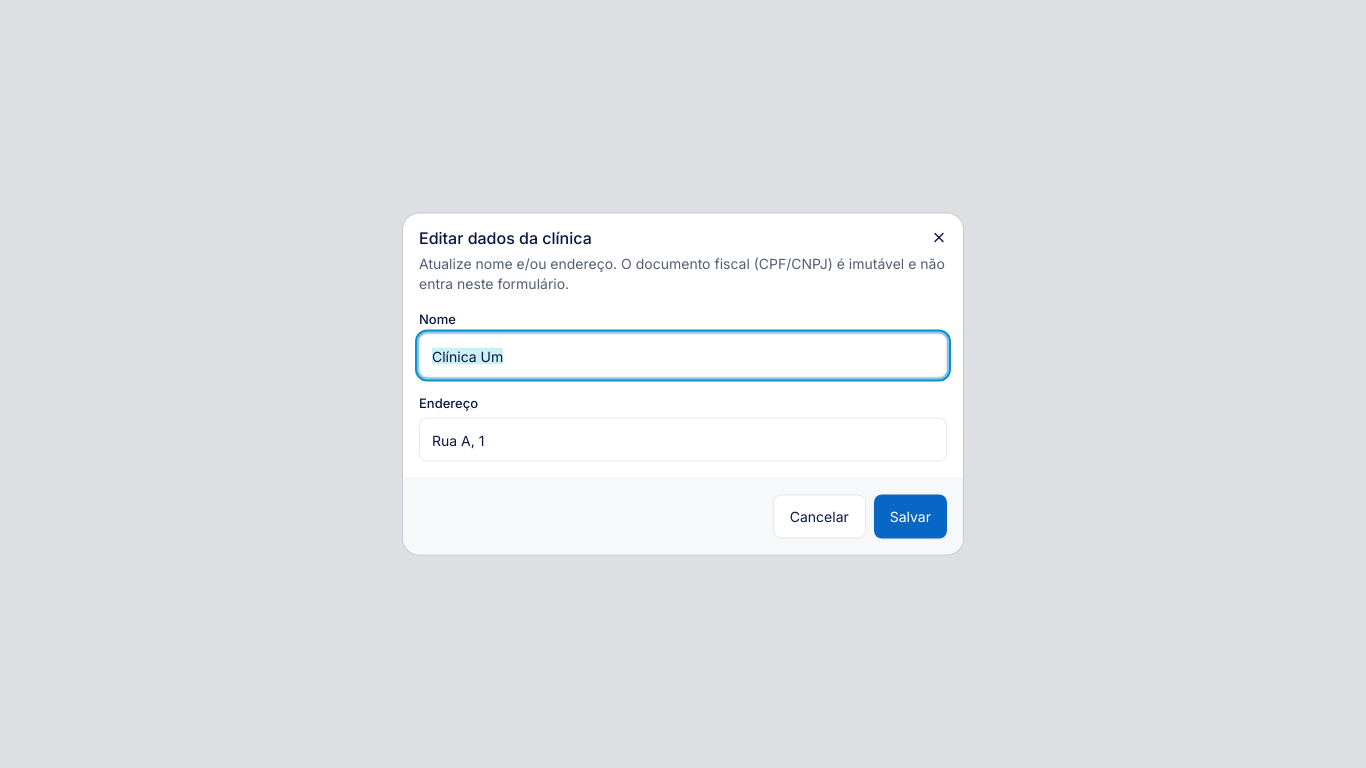
Scenario: EditarDadosClinicaModal › não envia quando os valores não mudaram
Click the button "Salvar" at (910, 516), box [874, 494, 947, 538]
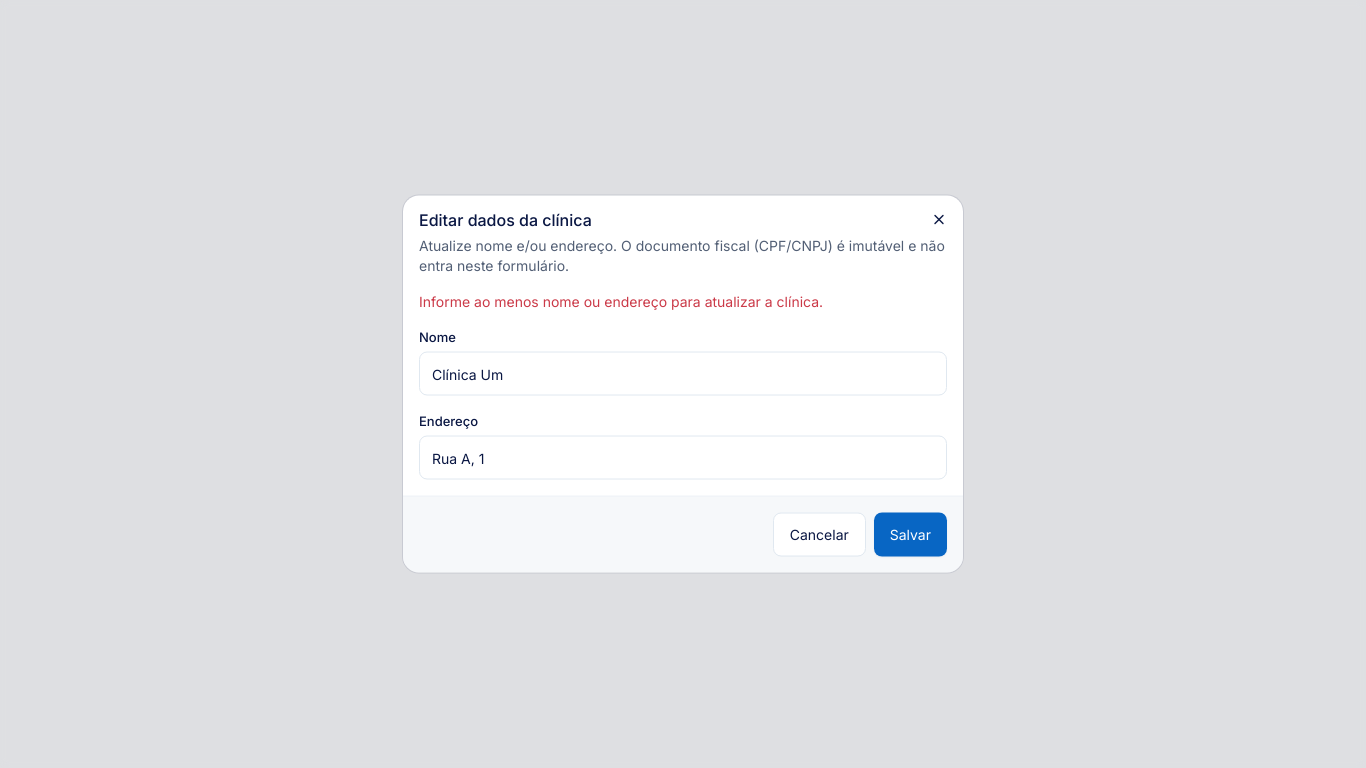
expect the text "Informe ao menos nome ou endereço para atualizar a clínica." is shown: met, box [419, 292, 823, 310]
